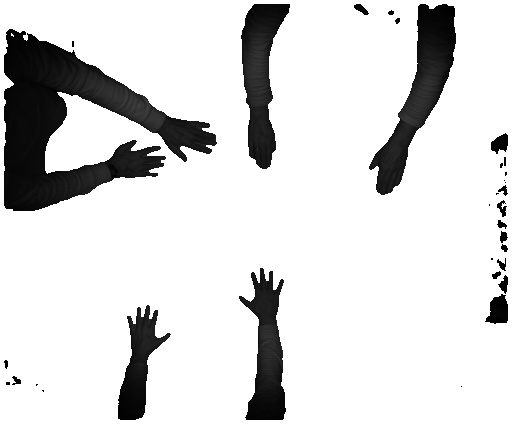hand: (120, 304, 175, 359), (235, 264, 287, 322), (167, 116, 219, 167), (368, 145, 415, 199), (112, 141, 166, 183), (248, 116, 279, 175)
